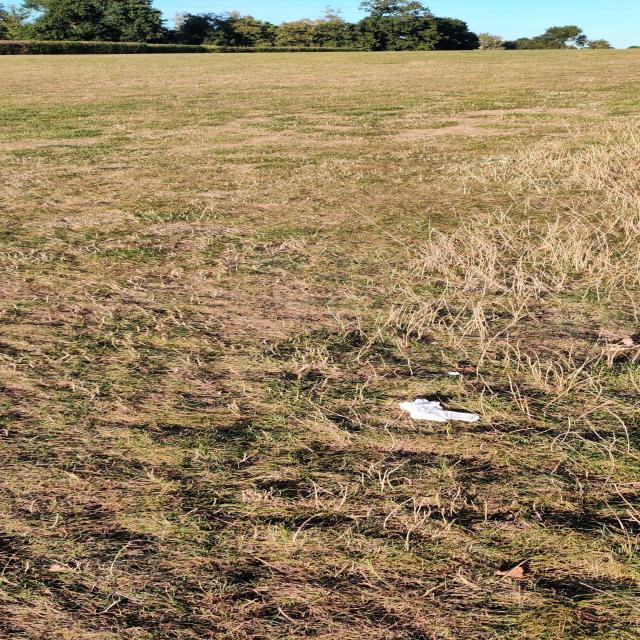litter: (398, 399, 478, 422)
